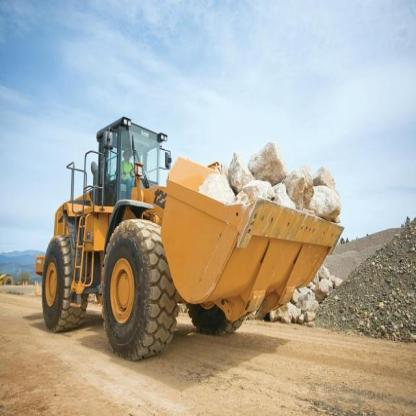bull_dozer/loader/grader: (23, 92, 346, 372)
